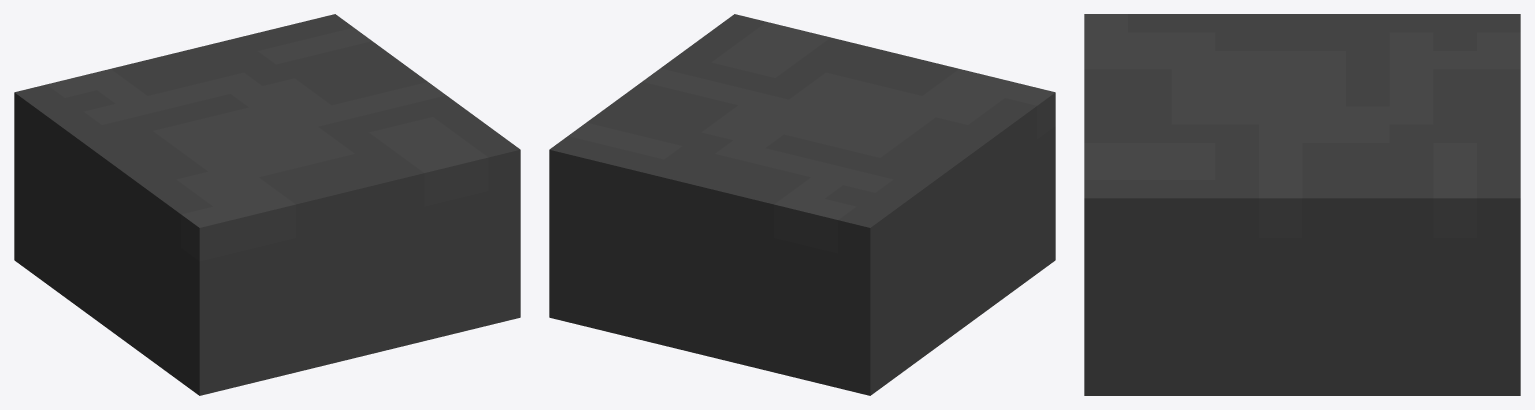
Rendered from Stein_Mitte-1.0.obj.
3 renders of one model, left to right at view 1: azimuth 30°, elevation 25°; view 2: azimuth 150°, elevation 25°; view 3: azimuth 270°, elevation 25°, orthographic. The views are drawn at different scales.
Bounding box in the file's own units: 1 × 0.5 × 1.
1 material, 1 textured.
